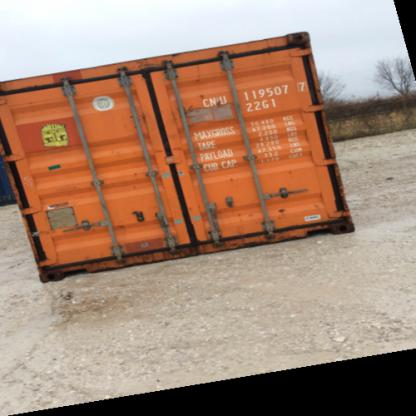Damage: (179, 93, 240, 126), (132, 57, 164, 84), (285, 32, 312, 59), (124, 109, 150, 128), (128, 202, 147, 224), (272, 200, 288, 214)
